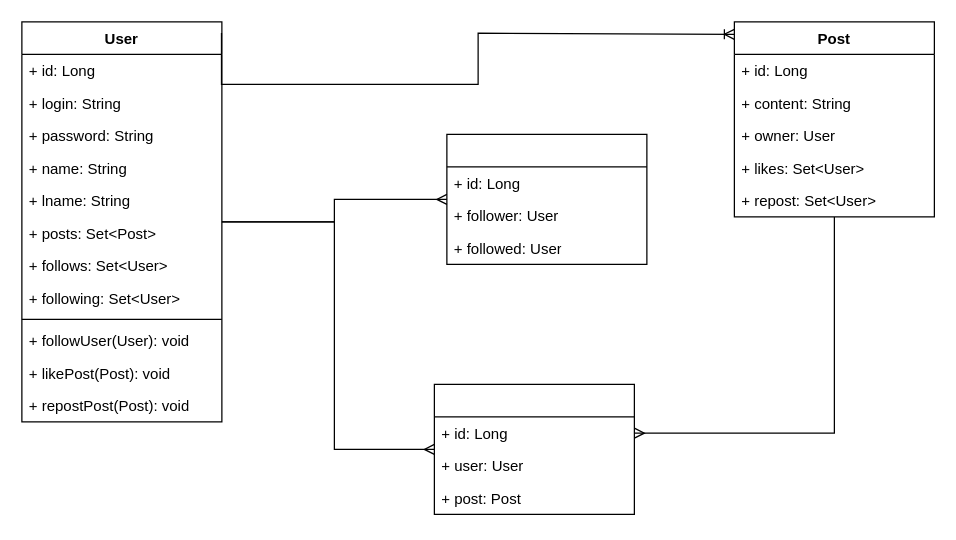
The diagram is 956 pixels wide and 540 high, and some of its shapes have lost their labels. Here are the shapes that lost their labels. From the top down, the box of each, then its label:
(446, 133, 647, 264): UserFollow
(433, 383, 634, 514): PostLike
